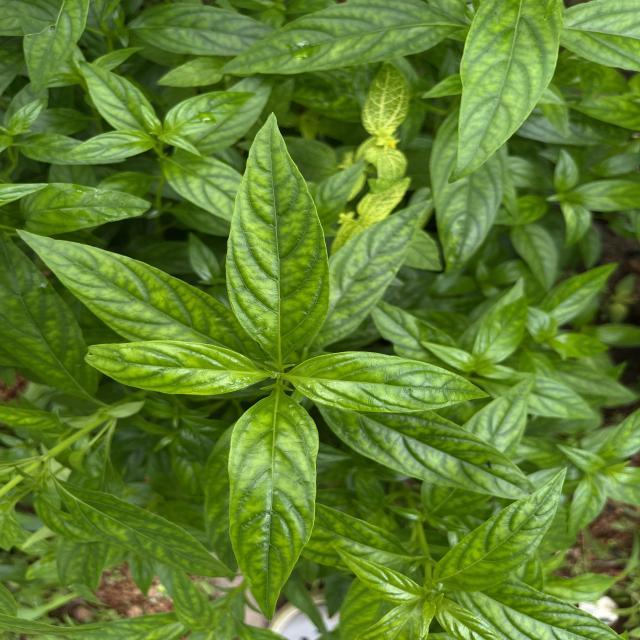Andrographis paniculata: (221, 108, 336, 364), (15, 224, 222, 338), (225, 399, 322, 624), (451, 0, 568, 184), (55, 476, 236, 586), (216, 0, 468, 79), (324, 404, 534, 496), (430, 464, 574, 596), (280, 347, 494, 418), (332, 195, 435, 333), (79, 330, 267, 396), (130, 2, 268, 56), (74, 55, 150, 133), (166, 86, 260, 138)
